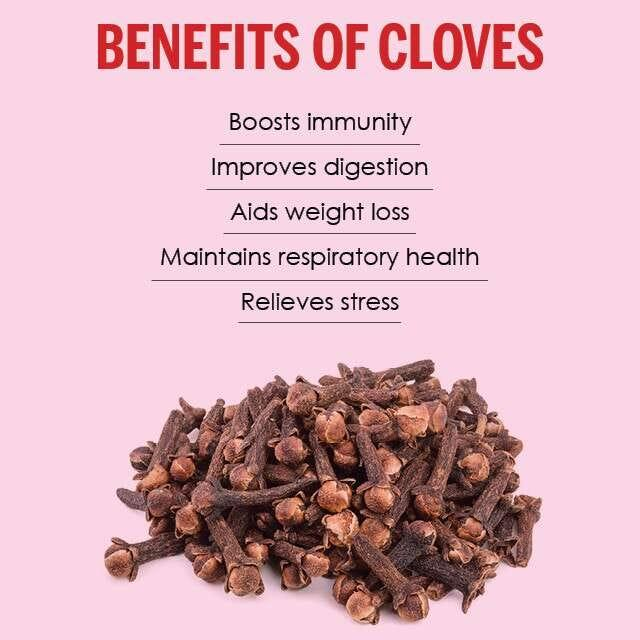clove: (105, 364, 540, 622)
